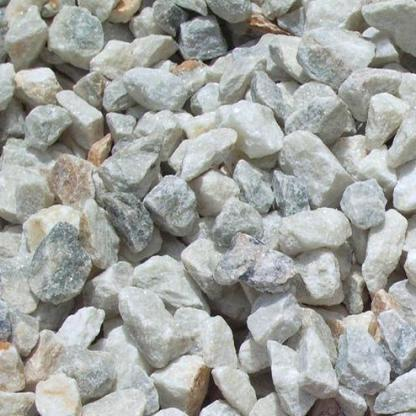Sedimentary_Limestone: (60, 13, 184, 139), (265, 221, 356, 302), (111, 287, 196, 367), (243, 92, 320, 168), (303, 27, 362, 120), (36, 228, 112, 297), (48, 342, 112, 413), (155, 126, 225, 186)
